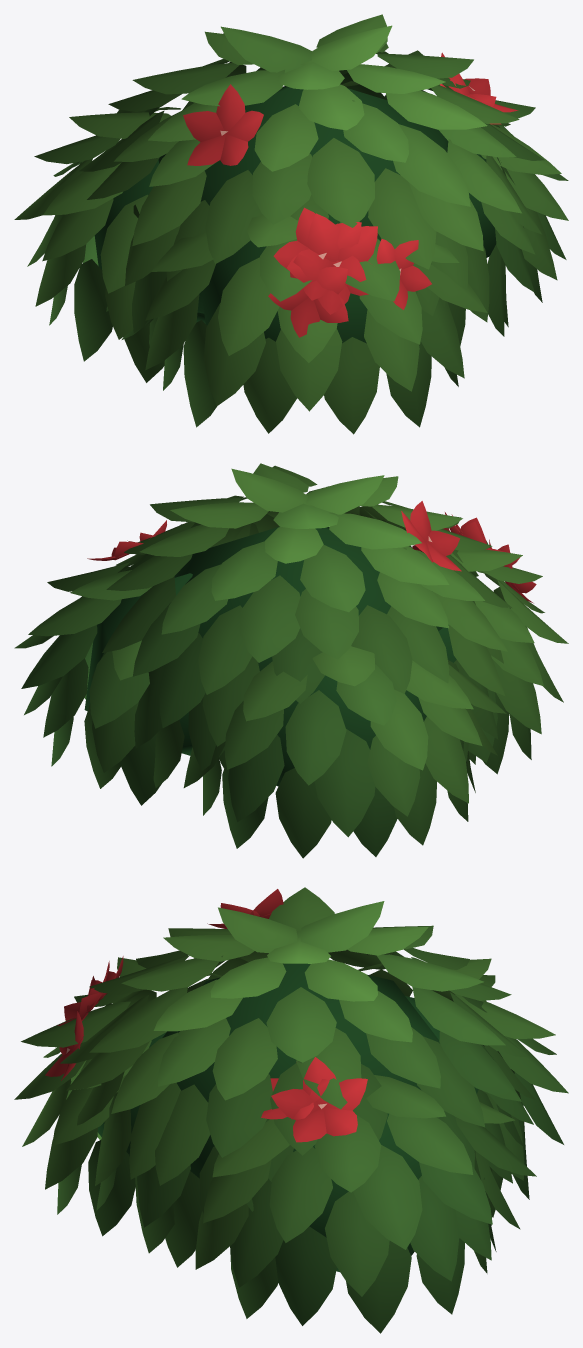
File: bush_hibiscus_lod1.glb
3 renders of one model, top to bottom at view 1: azimuth 30°, elevation 25°; view 2: azimuth 150°, elevation 25°; view 3: azimuth 270°, elevation 25°, orthographic. The views are drawn at different scales.
Parts seen in each view (by area): view 1: bush_hibiscus.001; view 2: bush_hibiscus.001; view 3: bush_hibiscus.001.
Boxes of the visible parts, x1,y1,x2,y2 form: bush_hibiscus.001: (14,14,568,434); bush_hibiscus.001: (14,463,568,858); bush_hibiscus.001: (14,887,568,1333).
Bounding box in the file's own units: 1.44 × 0.8611 × 1.4.
